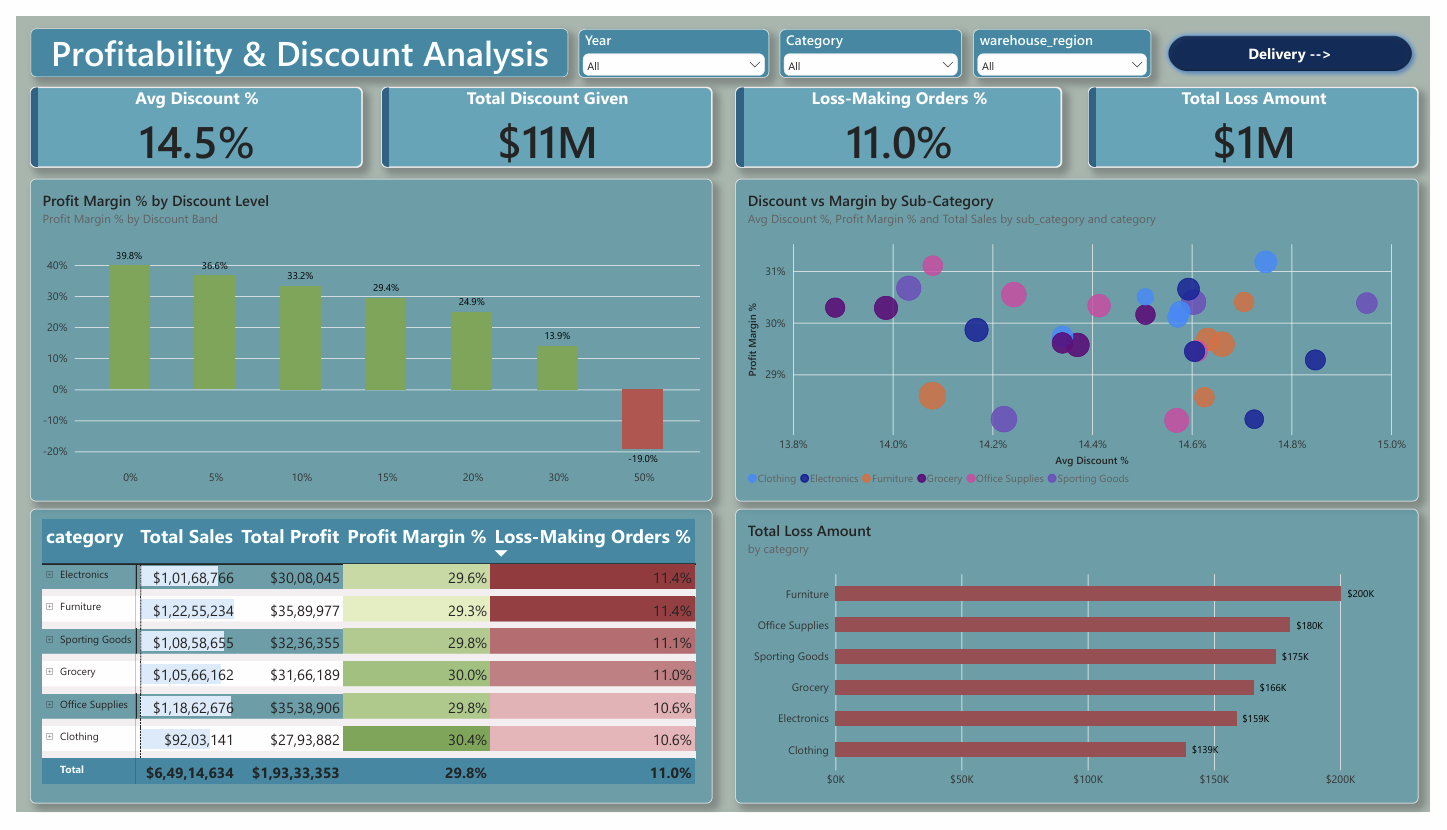

This screenshot's page, from the dashboard's own definition file:
{"tool":"powerbi","page":{"name":"Profitability","canvas":[1920,1080],"ordinal":1},"visuals":[{"type":"textbox","title":"Profitability & Discount Analysis","box":[18.5,16.5,730.7,65.9],"z":0},{"type":"slicer","fields":{"Values":["DateTable.Year"]},"box":[763,16.5,258.6,66],"z":1000},{"type":"slicer","fields":{"Values":["supply_chain_analysis_dashboard.category"]},"box":[1036.4,16.5,247.6,66],"z":2000},{"type":"slicer","fields":{"Values":["supply_chain_analysis_dashboard.warehouse_region"]},"box":[1298.6,16.5,242.1,66],"z":3000},{"type":"cardVisual","fields":{"Data":["supply_chain_analysis_dashboard.Avg Discount %"]},"box":[18.3,95.4,451.2,110.1],"z":4000},{"type":"cardVisual","fields":{"Data":["supply_chain_analysis_dashboard.Total Discount Given"]},"box":[495.2,95.4,449.4,110.1],"z":5000},{"type":"cardVisual","fields":{"Data":["supply_chain_analysis_dashboard.Loss-Making Orders %"]},"box":[975.8,95.4,443.9,110.1],"z":6000},{"type":"cardVisual","fields":{"Data":["supply_chain_analysis_dashboard.Total Loss Amount"]},"box":[1454.6,95.4,449.4,110.1],"z":7000},{"type":"clusteredColumnChart","title":"Profit Margin % by Discount Level","fields":{"Category":["supply_chain_analysis_dashboard.Discount Band"],"Y":["supply_chain_analysis_dashboard.Profit Margin %"]},"box":[18.3,220.1,926.3,438.4],"z":8000},{"type":"pivotTable","fields":{"Rows":["supply_chain_analysis_dashboard.category","supply_chain_analysis_dashboard.sub_category"],"Values":["supply_chain_analysis_dashboard.Total Sales","supply_chain_analysis_dashboard.Total Profit","supply_chain_analysis_dashboard.Profit Margin %","supply_chain_analysis_dashboard.Loss-Making Orders %"]},"box":[18.3,667.7,926.3,399.9],"z":9000},{"type":"scatterChart","title":"Discount vs Margin by Sub-Category","fields":{"X":["supply_chain_analysis_dashboard.Avg Discount %"],"Y":["supply_chain_analysis_dashboard.Profit Margin %"],"Category":["supply_chain_analysis_dashboard.sub_category"],"Size":["supply_chain_analysis_dashboard.Total Sales"],"Series":["supply_chain_analysis_dashboard.category"]},"box":[975.8,220.1,928.1,438.4],"z":10000},{"type":"clusteredBarChart","fields":{"Category":["supply_chain_analysis_dashboard.category"],"Y":["supply_chain_analysis_dashboard.Total Loss Amount"]},"box":[976,668,928,400],"z":11000},{"type":"actionButton","box":[1555.4,16.5,348.5,66],"z":12000}]}

Visuals, with their boxes in screenshot pixels (x1, y1, x2, y2), scaled from the page's 1920x1080 canvas onto the 1447x830 screenshot:
"Profitability & Discount Analysis" textbox: crop(14, 13, 565, 63)
slicer - DateTable.Year: crop(575, 13, 770, 63)
slicer - supply_chain_analysis_dashboard.category: crop(781, 13, 968, 63)
slicer - supply_chain_analysis_dashboard.warehouse_region: crop(979, 13, 1161, 63)
cardVisual - supply_chain_analysis_dashboard.Avg Discount %: crop(14, 73, 354, 158)
cardVisual - supply_chain_analysis_dashboard.Total Discount Given: crop(373, 73, 712, 158)
cardVisual - supply_chain_analysis_dashboard.Loss-Making Orders %: crop(735, 73, 1070, 158)
cardVisual - supply_chain_analysis_dashboard.Total Loss Amount: crop(1096, 73, 1435, 158)
"Profit Margin % by Discount Level" clusteredColumnChart: crop(14, 169, 712, 506)
pivotTable - supply_chain_analysis_dashboard.category x supply_chain_analysis_dashboard.sub_category: crop(14, 513, 712, 820)
"Discount vs Margin by Sub-Category" scatterChart: crop(735, 169, 1435, 506)
clusteredBarChart - supply_chain_analysis_dashboard.category x supply_chain_analysis_dashboard.Total Loss Amount: crop(736, 513, 1435, 821)
actionButton: crop(1172, 13, 1435, 63)
